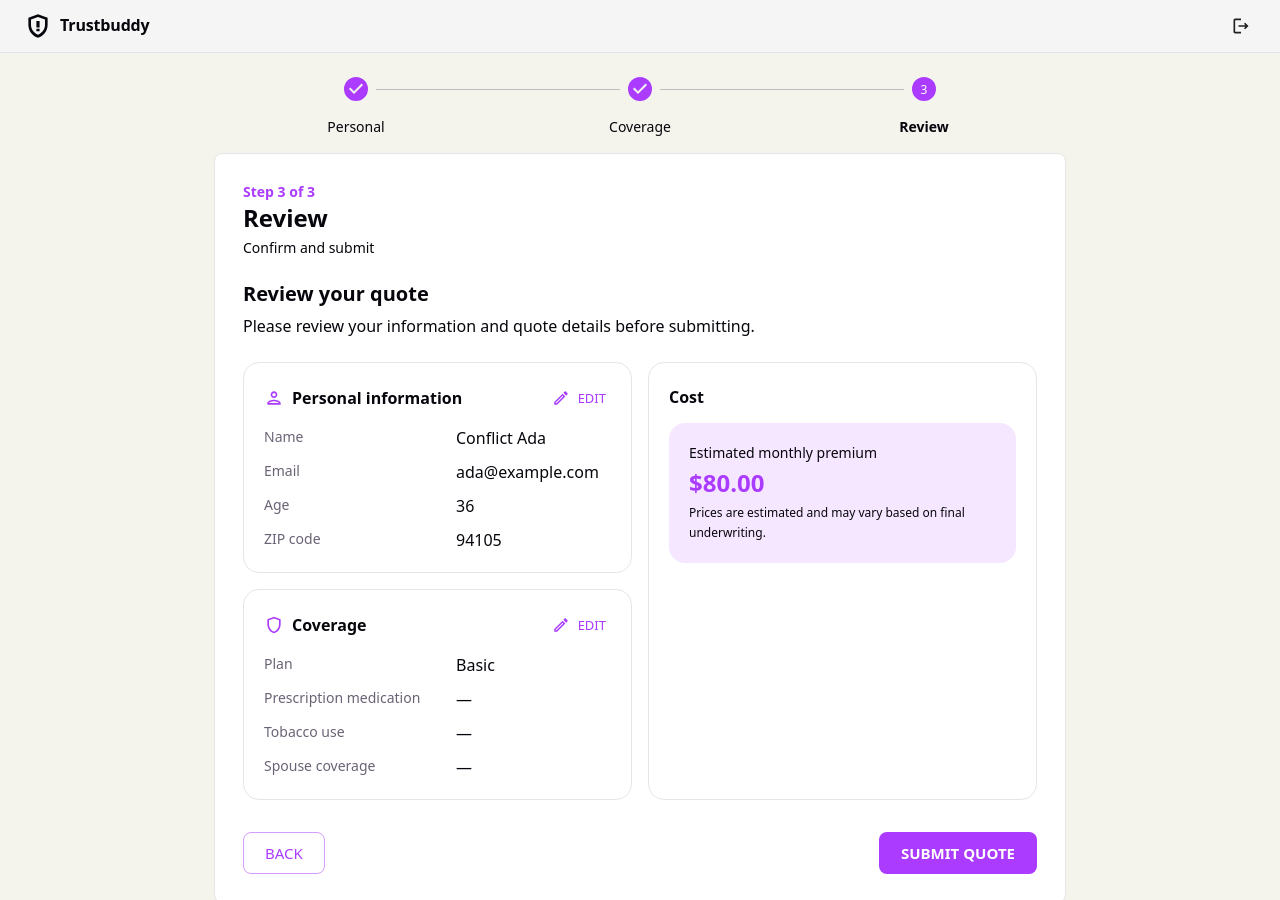
Test case: wizard routes › given_409_when_submitted_then_showsAlertAndStays
This screenshot has width=1280, height=900.
Click the button "Submit quote": (958,853) [879,832,1037,874]
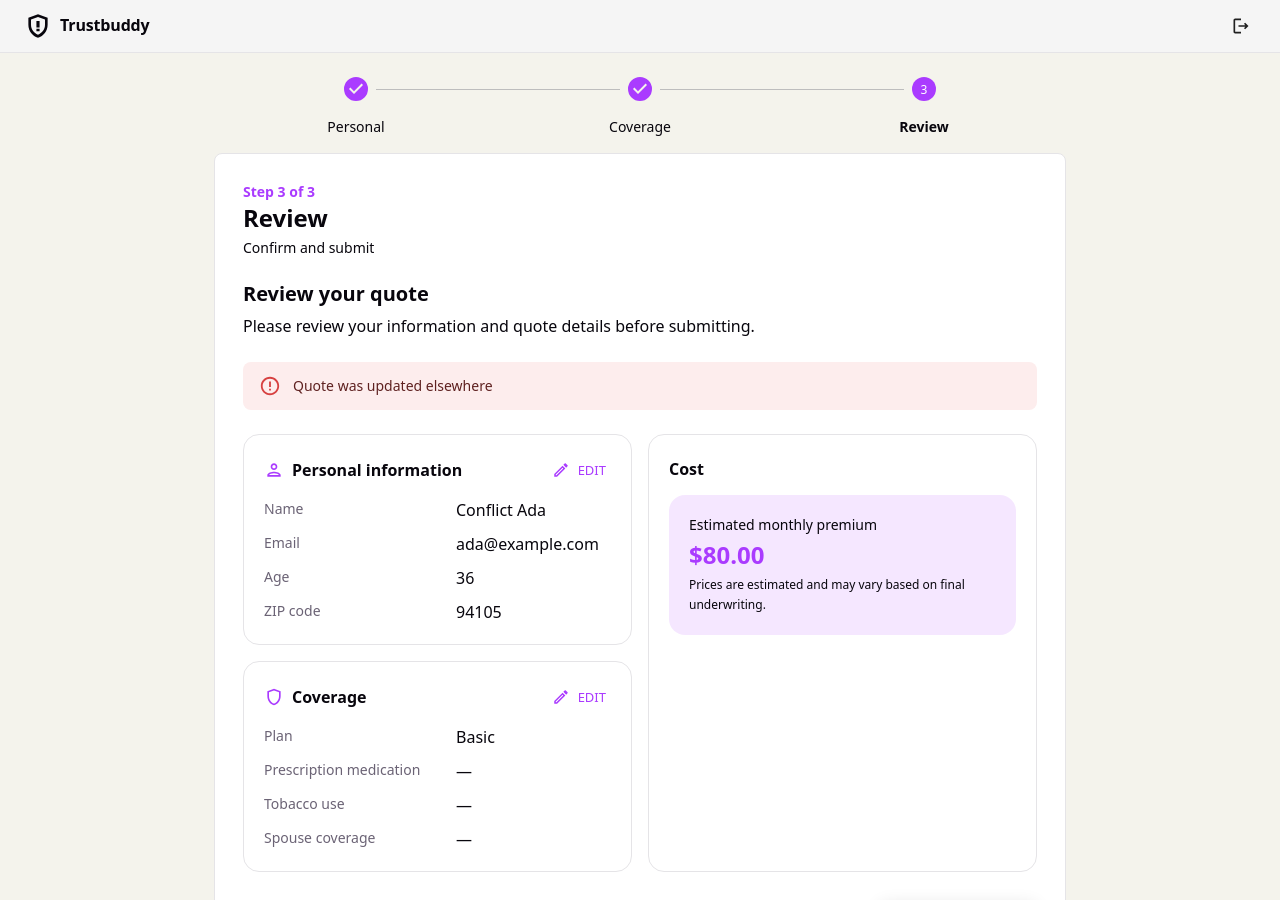
expect the message reads "Quote was updated elsewhere": met, box [293,376,493,395]
